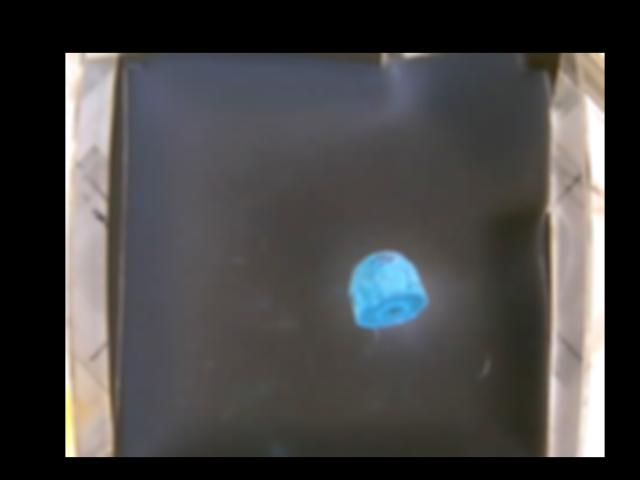Carrot: (350, 249, 425, 329)
